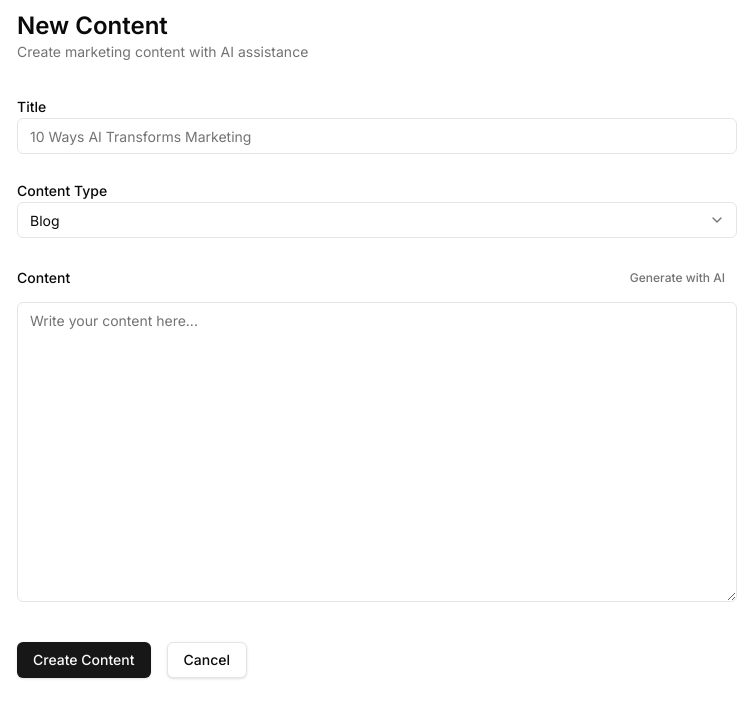
Test: NewContentPage › shows validation error when title is empty
Click the button "Create Content" at (84, 660), box [17,642,150,678]
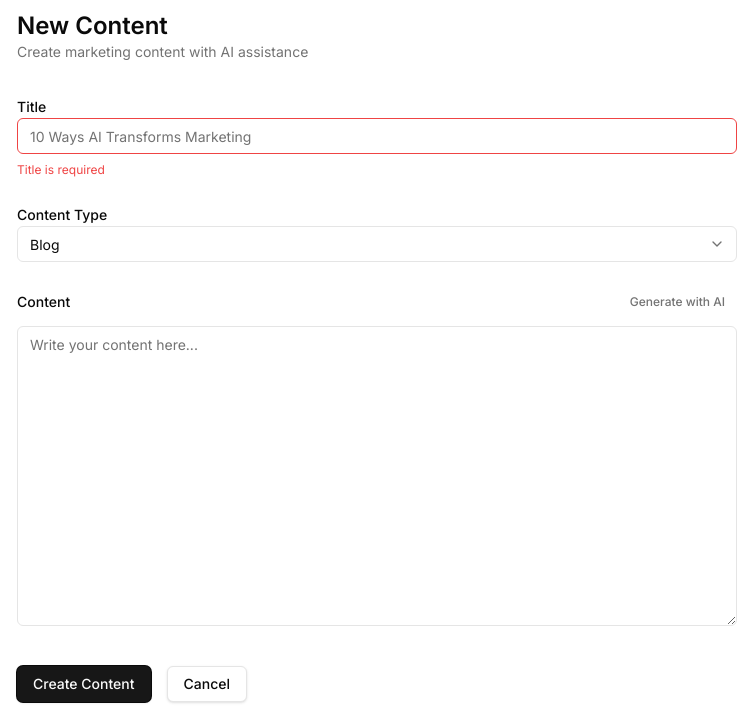
Check: the text "Title is required" is shown, box [17,162,105,177]
